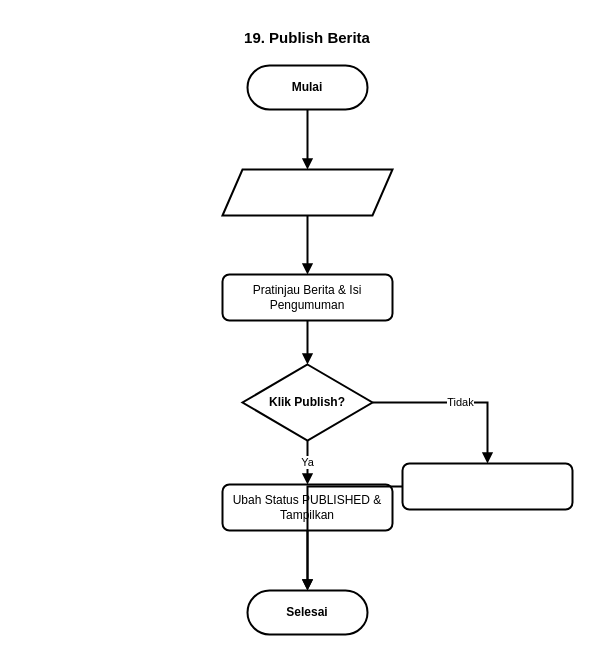
Some shapes in this 614 by 652 pixel diagram are drawn without their labels. The centre of each missing label's shape, as x and y in pixels:
"Pertahankan Berita sebagai DRAFT" goes at [487,486].
"Pilih Berita Status DRAFT" goes at [307,192].
